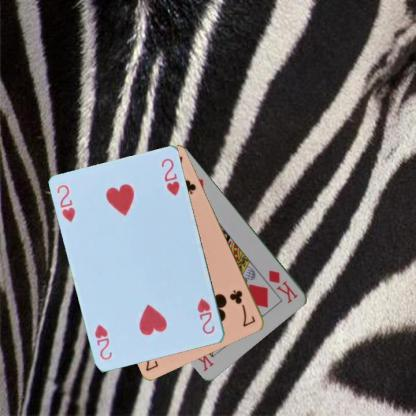2h: (54, 182, 77, 224), (195, 296, 216, 336)
7c: (227, 287, 257, 328)
Kd: (266, 268, 299, 305)
